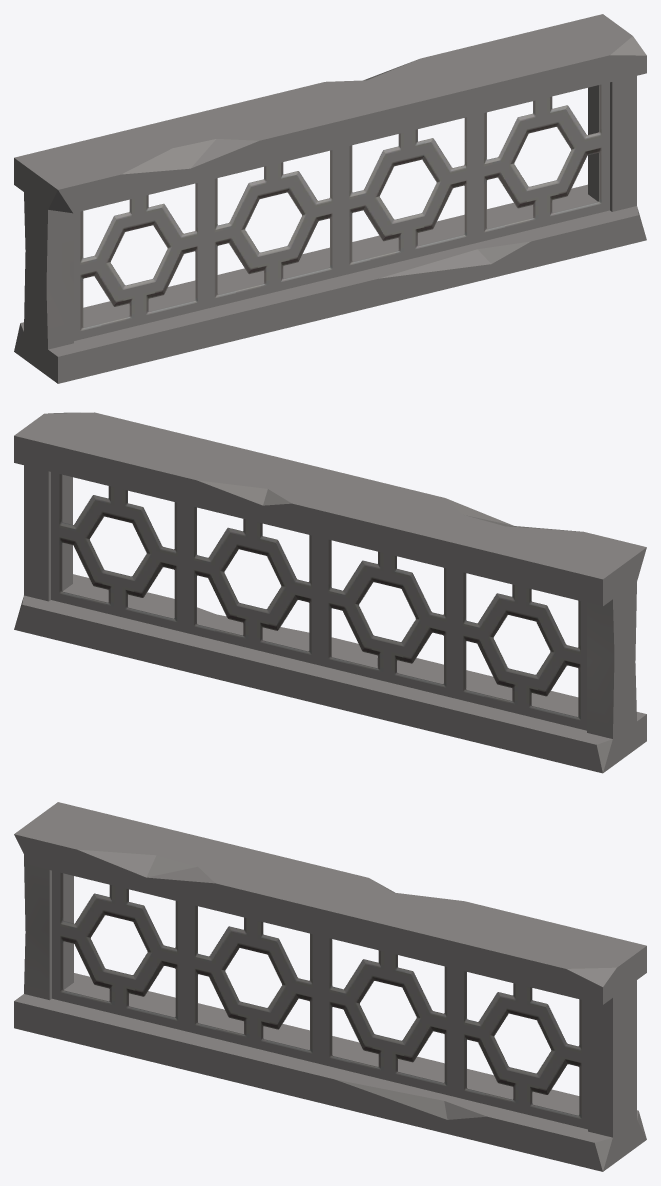
The model's file is SM_Bld_Decorative_Block_03.glb.
The picture shows the model from 3 angles, top to bottom: view 1: azimuth 30°, elevation 25°; view 2: azimuth 150°, elevation 25°; view 3: azimuth 330°, elevation 25°; orthographic projection.
Visible parts, largest first — view 1: SM_Bld_Decorative_Block_03; view 2: SM_Bld_Decorative_Block_03; view 3: SM_Bld_Decorative_Block_03.
Part boxes in pixels (x1,y1,x2,y2): SM_Bld_Decorative_Block_03: (14, 14, 646, 383); SM_Bld_Decorative_Block_03: (14, 412, 646, 773); SM_Bld_Decorative_Block_03: (14, 802, 646, 1171).
Size of the model in its own units: 1.82 by 0.5728 by 0.2356.
Materials: 1 (1 with a texture image).
